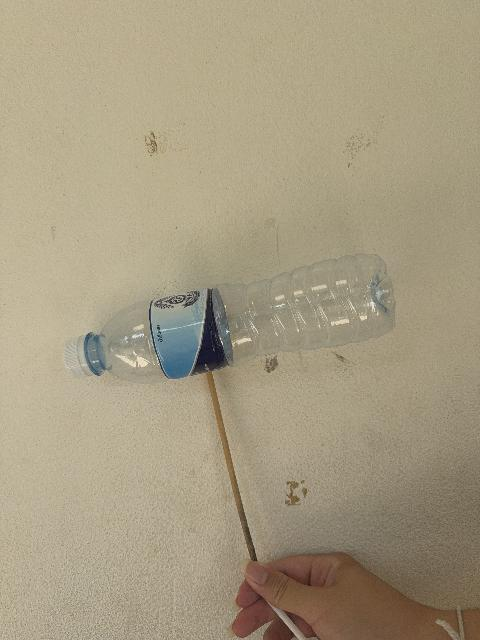bottle: (64, 255, 394, 382)
